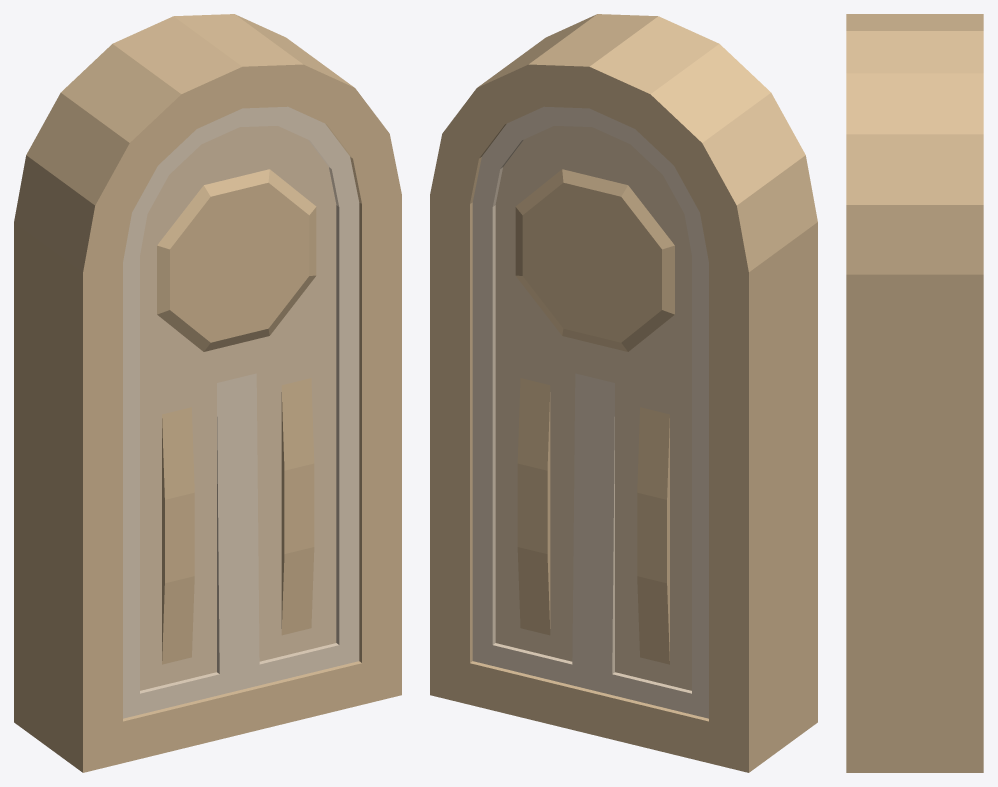
File: temple_Wall_Straight_Door_Sun.glb
3 views of the same model, side by side, from view 1: azimuth 30°, elevation 25°; view 2: azimuth 150°, elevation 25°; view 3: azimuth 270°, elevation 25° (orthographic).
Parts seen in each view (by area): view 1: object1; view 2: object1; view 3: object1.
Boxes of the visible parts, box(x1,y1,x2,y2) form: object1: box(14, 14, 401, 772); object1: box(430, 14, 817, 772); object1: box(846, 14, 983, 772).
Bounding box in the file's own units: 0.8 × 1.6 × 0.3.
